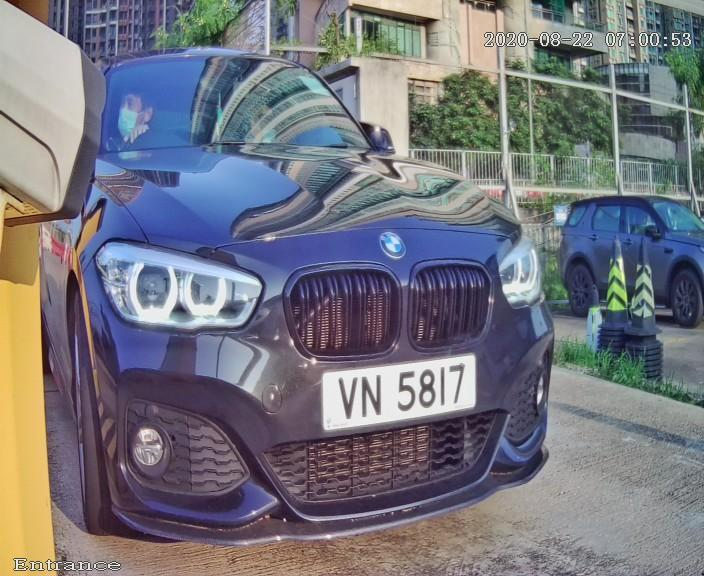Car: (35, 24, 588, 543)
License Plate: (303, 335, 497, 449)
